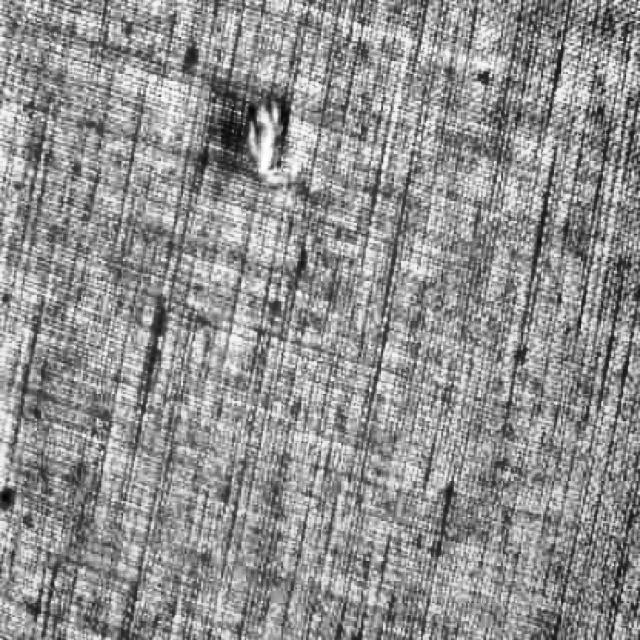objects: (231, 78, 325, 196)
